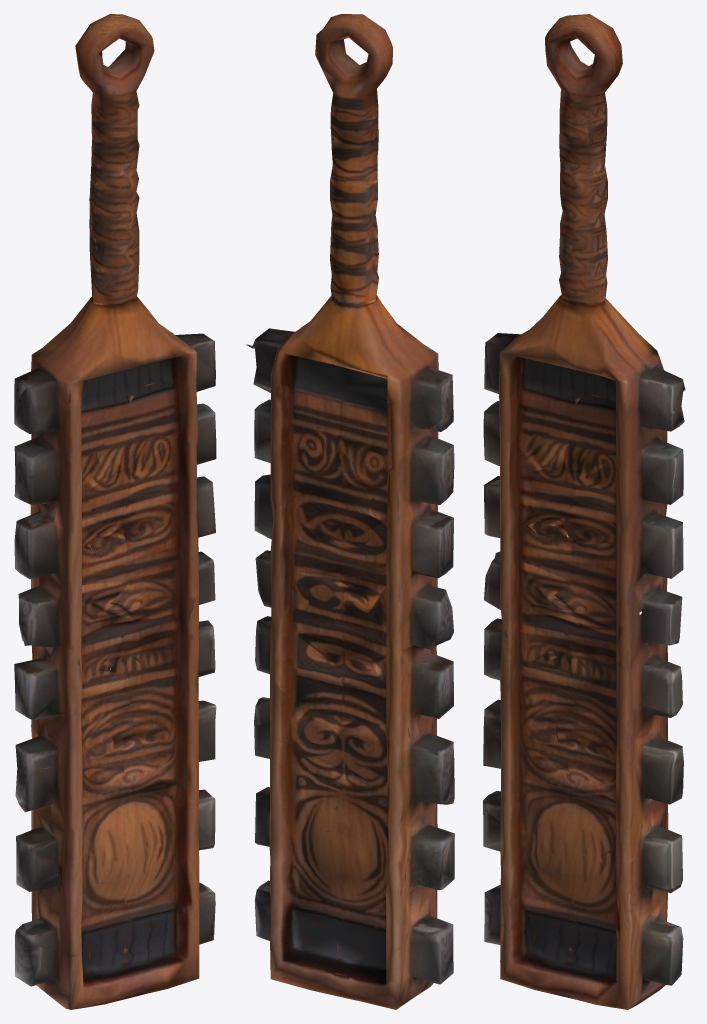
The model's file is 1498_club.glb.
3 renders of one model, left to right at view 1: azimuth 30°, elevation 25°; view 2: azimuth 150°, elevation 25°; view 3: azimuth 330°, elevation 25°, orthographic.
Parts seen in each view (by area): view 1: Model; view 2: Model; view 3: Model.
Boxes of the visible parts, x1,y1,x2,y2 form: Model: [14, 14, 216, 1009]; Model: [246, 14, 454, 1009]; Model: [483, 14, 685, 1009].
Size of the model in its own units: 0.2165 by 1 by 0.0786.
Materials: 1 (1 with a texture image).
